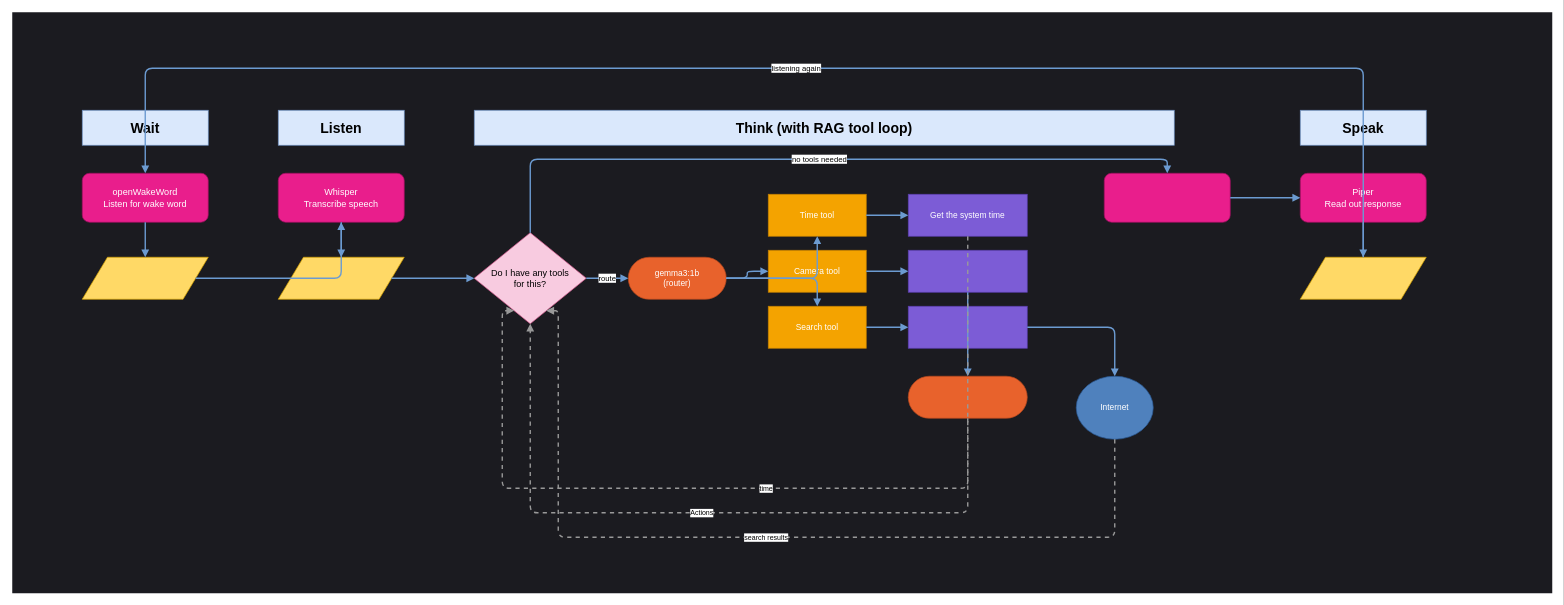
Some shapes in this 1564 by 605 pixel diagram are drawn without their labels. Each missing label, with the box of its shape:
"Hey BMO": (82, 257, 208, 299)
Finished reading: (1300, 257, 1426, 299)
moondream (vision model): (908, 376, 1027, 418)
Ollama · gemma3:4b Generate response: (1104, 173, 1230, 222)
Search Duck-Duck-Go: (908, 306, 1027, 348)
Silence + Transcribed: (278, 257, 404, 299)
Take photo & swap model: (908, 250, 1027, 292)
